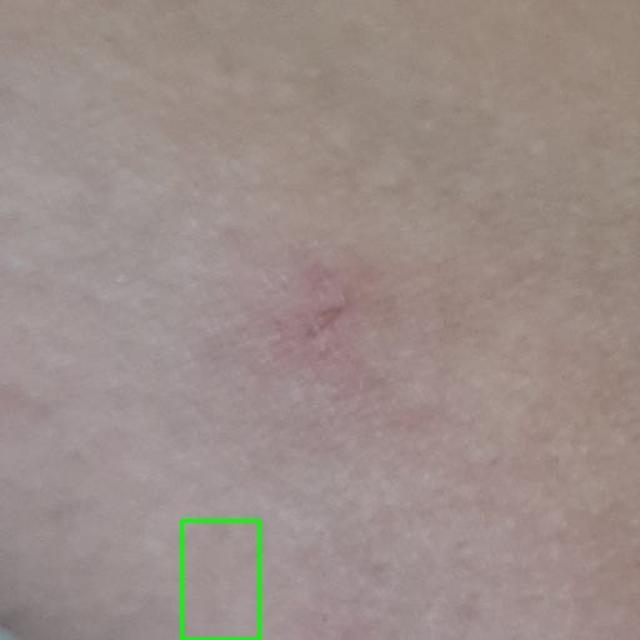Seborrheic Dermatitis: (181, 520, 259, 639)
